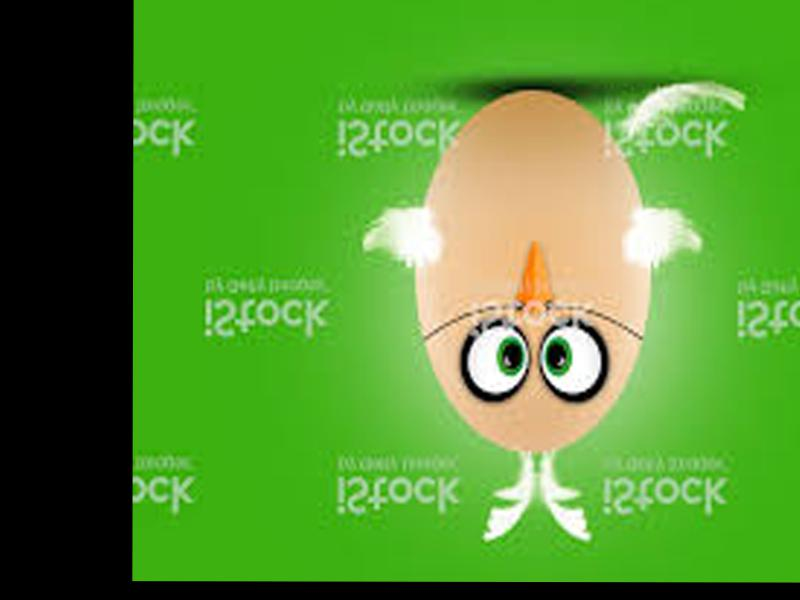Eggs: (418, 86, 651, 453)
